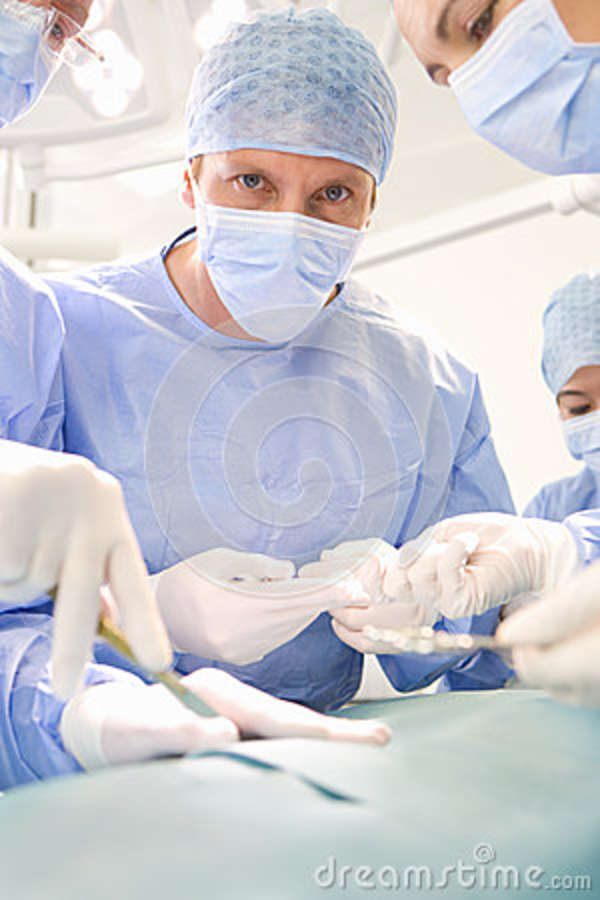mask: (196, 207, 360, 336), (463, 23, 600, 154)
